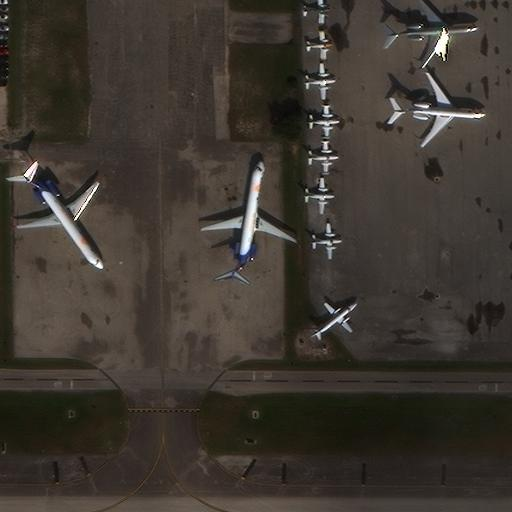Medium Civil Transport: (201, 159, 296, 278), (15, 173, 102, 269), (393, 71, 485, 147), (386, 0, 478, 68)
Small Civil Transport: (310, 302, 357, 338), (303, 63, 336, 100), (302, 176, 334, 214), (310, 223, 342, 260), (306, 140, 339, 174), (306, 104, 339, 137), (305, 30, 333, 59), (302, 0, 329, 24)
